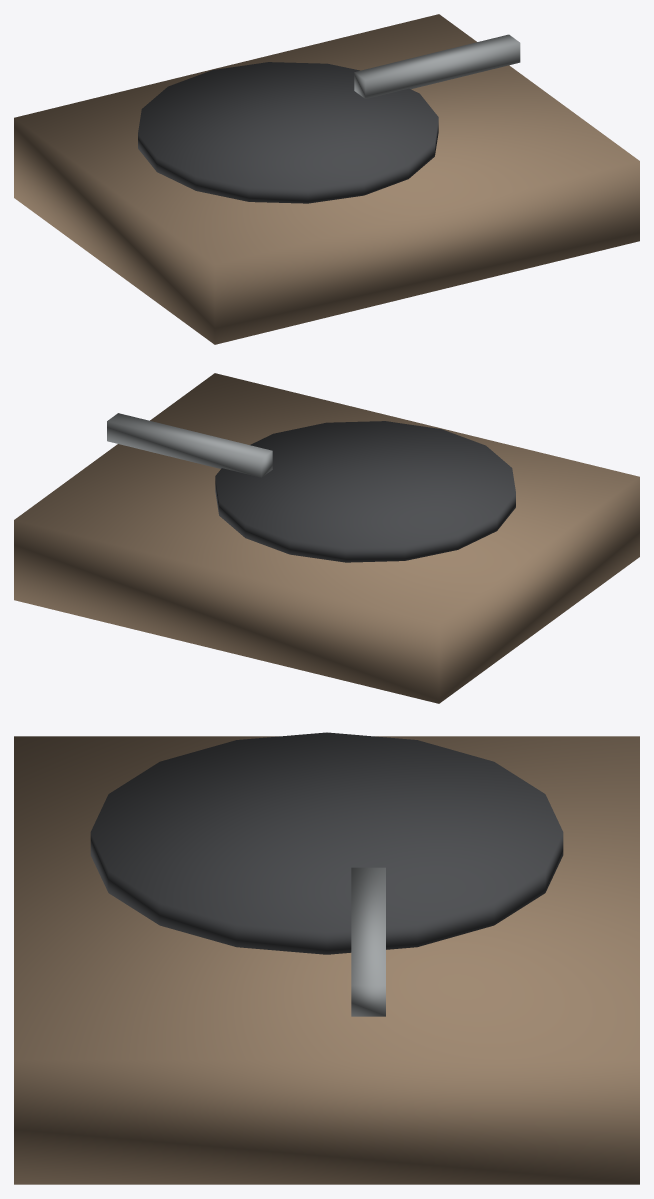
The model's file is record_player__reinforced.glb.
3 views of the same model, one above another, from view 1: azimuth 30°, elevation 25°; view 2: azimuth 150°, elevation 25°; view 3: azimuth 270°, elevation 25° (orthographic). The views are drawn at different scales.
Visible parts, largest first — view 1: world; view 2: world; view 3: world.
Part boxes in pixels (<box>): world: <box>14,14,639,344</box>; world: <box>14,373,639,703</box>; world: <box>14,732,639,1184</box>.
Size of the model in its own units: 0.5665 by 0.1556 by 0.4635.
